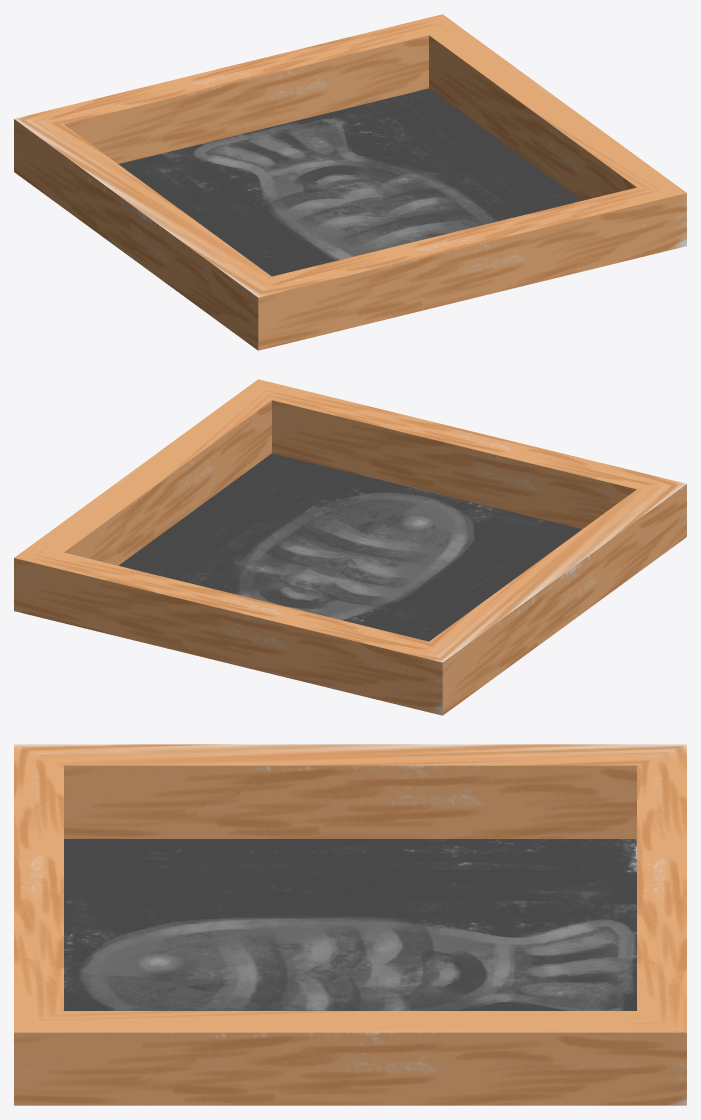
File: FishCreater.fbx
3 renders of one model, top to bottom at view 1: azimuth 30°, elevation 25°; view 2: azimuth 150°, elevation 25°; view 3: azimuth 270°, elevation 25°, orthographic. The views are drawn at different scales.
Parts seen in each view (by area): view 1: Box001; view 2: Box001; view 3: Box001.
Boxes of the visible parts, x1,y1,x2,y2 form: Box001: [14, 14, 686, 350]; Box001: [14, 379, 686, 715]; Box001: [14, 744, 686, 1105].
Size of the model in its own units: 72.24 by 8.55 by 71.27.
1 material, 1 textured.
